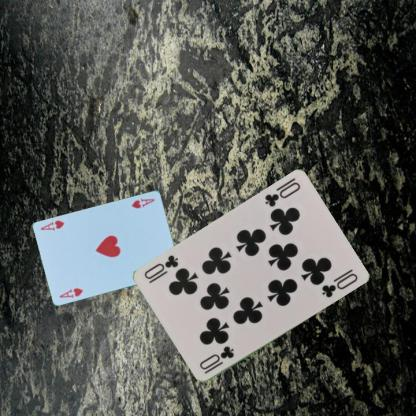10c: (197, 343, 235, 376), (262, 180, 302, 209)
Ah: (129, 195, 156, 210), (57, 285, 84, 299)
